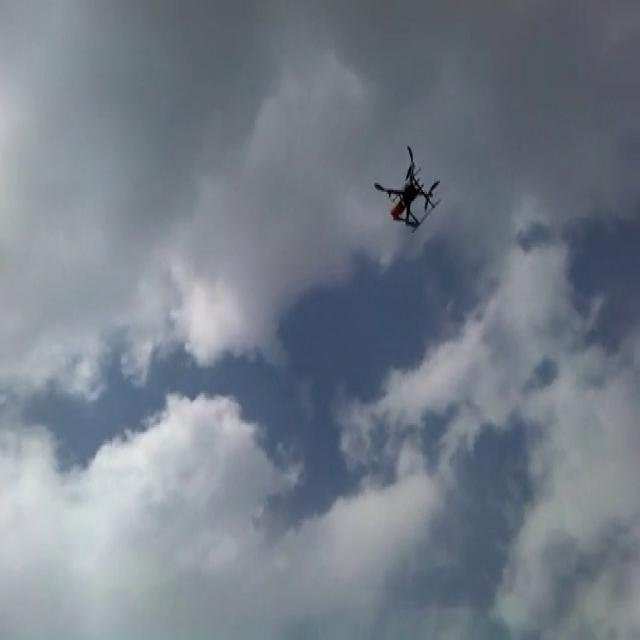drone: (371, 141, 443, 235)
